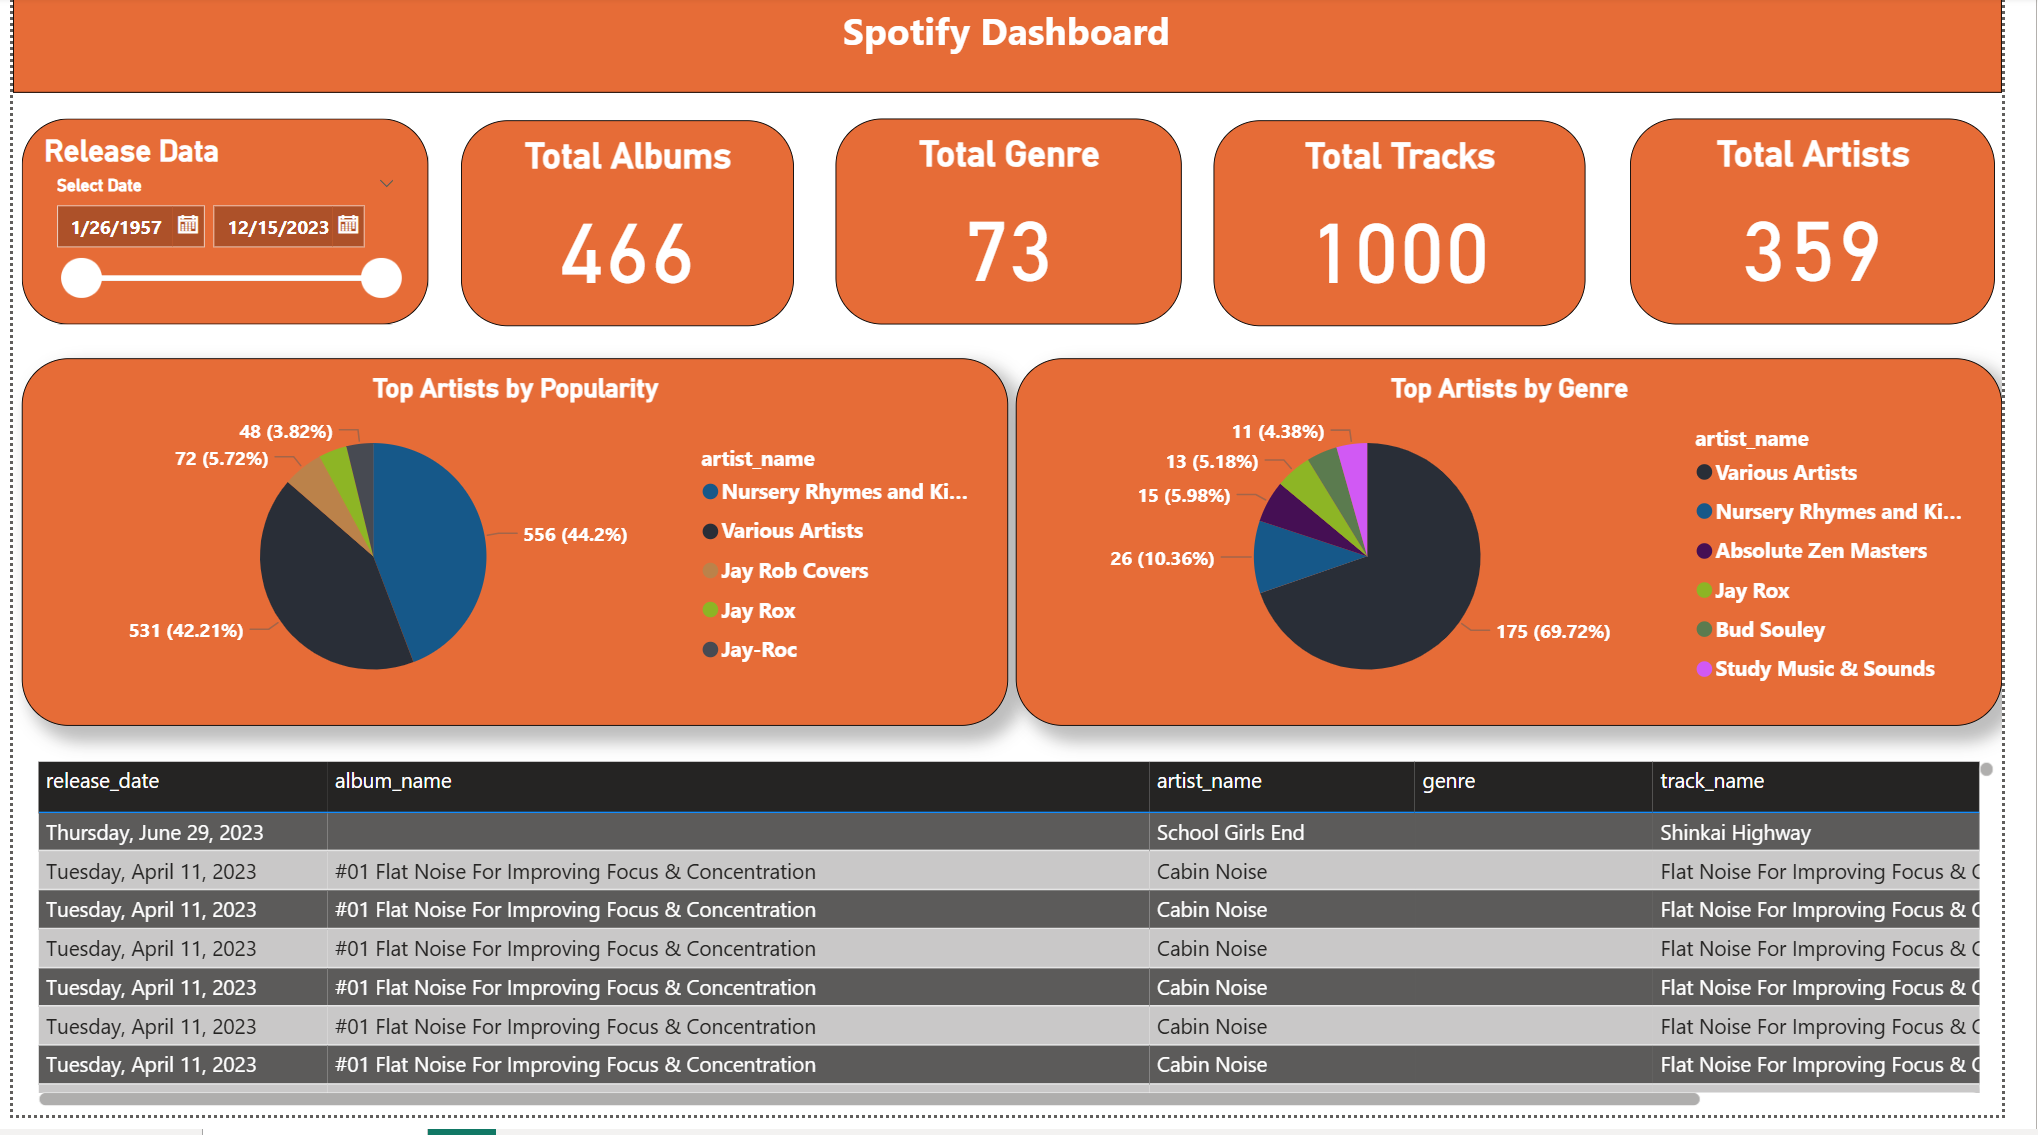

Layout of this report page (visuals, bound fields, positions):
{"tool":"powerbi","page":{"name":"Spotify_Analysis","canvas":[1280,720],"ordinal":0},"visuals":[{"type":"tableEx","fields":{"Values":["tbl_datalake.release_date","tbl_datalake.album_name","tbl_datalake.artist_name","tbl_datalake.genre","tbl_datalake.track_name"]},"box":[10.4,487.5,1269.4,231.9],"z":0},{"type":"slicer","title":"Release Data","fields":{"Values":["tbl_datalake.release_date"]},"box":[5.9,78.8,261.6,132.3],"z":1},{"type":"card","title":"Total Genre","fields":{"Values":["Count(tbl_datalake.genre)"]},"box":[529.2,78.8,223,132.3],"z":2},{"type":"card","title":"Total Tracks","fields":{"Values":["Count(tbl_datalake.track_id)"]},"box":[772.9,80.3,239.3,132.3],"z":3},{"type":"card","title":"Total Artists","fields":{"Values":["Count(tbl_datalake.artist_id)"]},"box":[1040.5,78.8,234.9,132.3],"z":4},{"type":"textbox","box":[0,0,1279.8,62.4],"z":5},{"type":"pieChart","title":"Top Artists  by Popularity","fields":{"Y":["Sum(tbl_datalake.album_popularity)"],"Category":["tbl_datalake.artist_name"]},"box":[5.9,233.4,634.7,236.3],"z":6},{"type":"card","title":"Total Albums","fields":{"Values":["Count(tbl_datalake.album_id)"]},"box":[288.4,80.3,214,132.3],"z":7},{"type":"pieChart","title":"Top Artists  by Genre","fields":{"Category":["tbl_datalake.artist_name"],"Y":["CountNonNull(tbl_datalake.genre)"]},"box":[645.1,233.4,634.7,236.3],"z":8}]}

Visuals, with their boxes in screenshot pixels (x1, y1, x2, y2), scaled from the page's 1280x720 canvas onto the 2038x1135 screenshot:
tableEx - tbl_datalake.release_date x tbl_datalake.album_name: rect(17, 768, 2037, 1134)
"Release Data" slicer: rect(9, 124, 426, 333)
"Total Genre" card: rect(843, 124, 1198, 333)
"Total Tracks" card: rect(1231, 127, 1612, 335)
"Total Artists" card: rect(1657, 124, 2031, 333)
textbox: rect(0, 0, 2037, 98)
"Top Artists  by Popularity" pieChart: rect(9, 368, 1020, 740)
"Total Albums" card: rect(459, 127, 800, 335)
"Top Artists  by Genre" pieChart: rect(1027, 368, 2037, 740)
